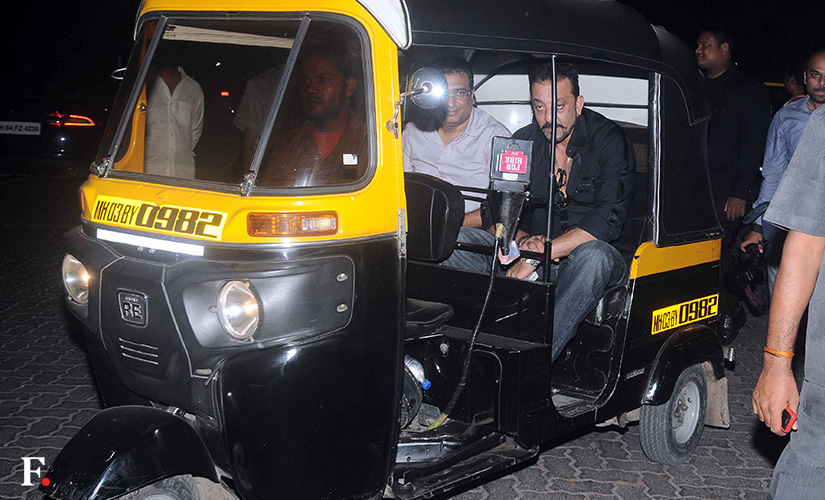rickshaw: (54, 1, 735, 500)
